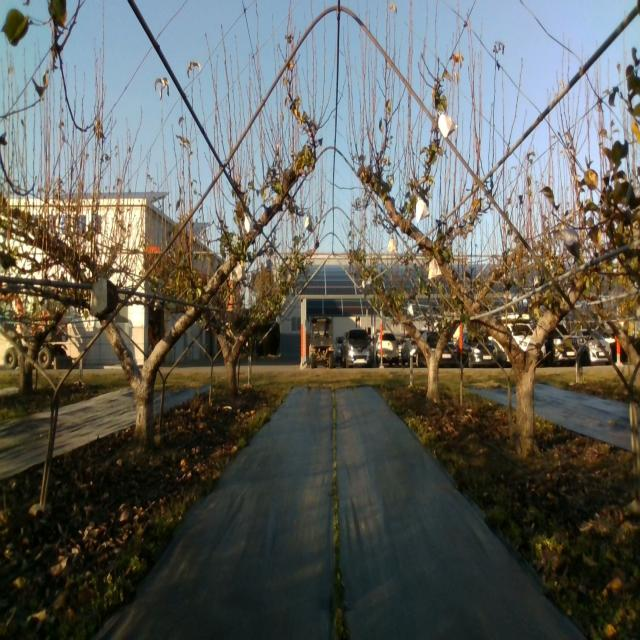pearbags: (561, 226, 582, 257), (437, 111, 458, 140), (416, 196, 430, 223), (427, 258, 442, 281)
